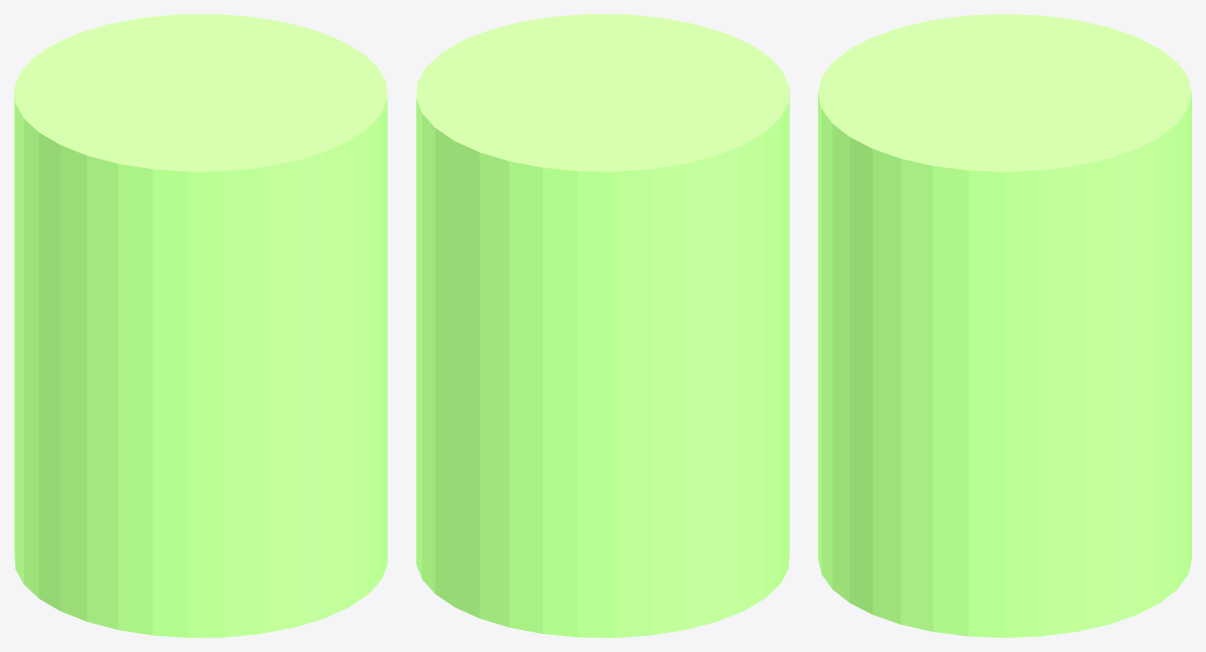
Rendered from barrel.glb.
The picture shows the model from 3 angles, left to right: view 1: azimuth 30°, elevation 25°; view 2: azimuth 150°, elevation 25°; view 3: azimuth 270°, elevation 25°; orthographic projection.
Visible parts, largest first — view 1: barrel; view 2: barrel; view 3: barrel.
Boxes of the visible parts, x1,y1,x2,y2 form: barrel: (14, 14, 387, 637); barrel: (416, 14, 789, 637); barrel: (818, 14, 1191, 637).
Size of the model in its own units: 0.8 by 1.1 by 0.8.
